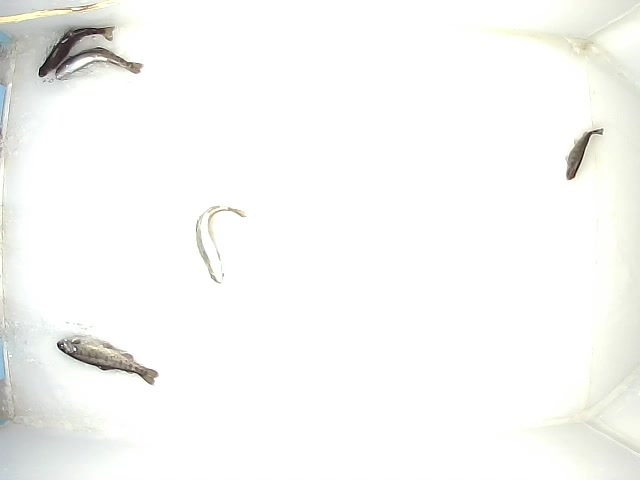fish: (56, 334, 159, 387), (37, 25, 117, 78), (194, 205, 247, 284), (54, 46, 144, 81), (564, 127, 604, 181)
